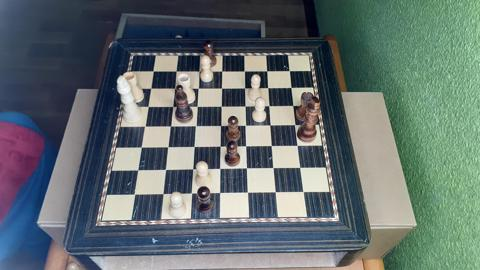xcorner: (217, 65, 225, 73), (194, 65, 202, 73), (171, 65, 179, 73), (264, 82, 272, 90), (148, 65, 155, 73), (288, 82, 295, 90), (193, 83, 201, 90), (192, 101, 200, 108), (168, 101, 175, 109), (143, 101, 150, 109), (293, 120, 300, 128), (295, 142, 303, 149), (217, 142, 224, 150), (136, 143, 144, 150), (133, 166, 140, 174), (301, 189, 308, 197), (158, 191, 165, 199), (286, 65, 293, 72), (263, 65, 270, 72), (240, 65, 247, 72), (241, 83, 248, 90), (217, 83, 224, 90), (170, 83, 177, 90), (146, 83, 153, 90), (290, 101, 297, 108), (266, 101, 273, 108), (242, 101, 249, 108), (217, 101, 224, 108), (268, 121, 275, 128), (242, 121, 249, 128), (217, 121, 224, 128), (191, 121, 198, 128), (166, 121, 173, 128), (140, 122, 147, 129), (269, 142, 276, 149), (243, 142, 250, 149), (190, 143, 197, 150), (163, 143, 170, 150), (298, 165, 305, 172), (271, 165, 278, 172), (244, 165, 251, 172), (216, 166, 223, 173), (189, 166, 196, 173), (161, 166, 168, 173), (273, 190, 280, 197), (245, 190, 252, 197), (216, 191, 223, 198), (187, 191, 194, 198), (129, 192, 136, 199)
